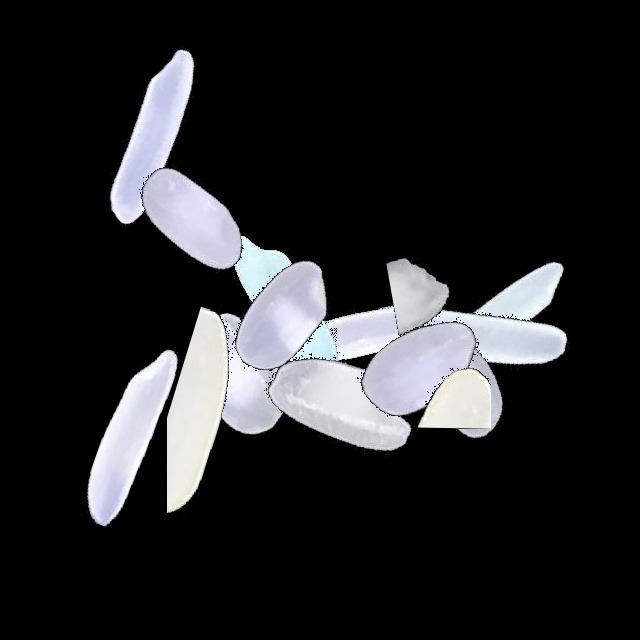Broken: (265, 206, 434, 456), (167, 302, 295, 552), (324, 232, 574, 348), (398, 256, 491, 506)
Full: (359, 194, 609, 444), (350, 209, 600, 459), (116, 251, 366, 501), (329, 252, 579, 502), (161, 189, 411, 439), (157, 193, 407, 443), (31, 12, 281, 262), (215, 283, 465, 533), (295, 241, 545, 491), (3, 308, 253, 558), (67, 92, 317, 342)
